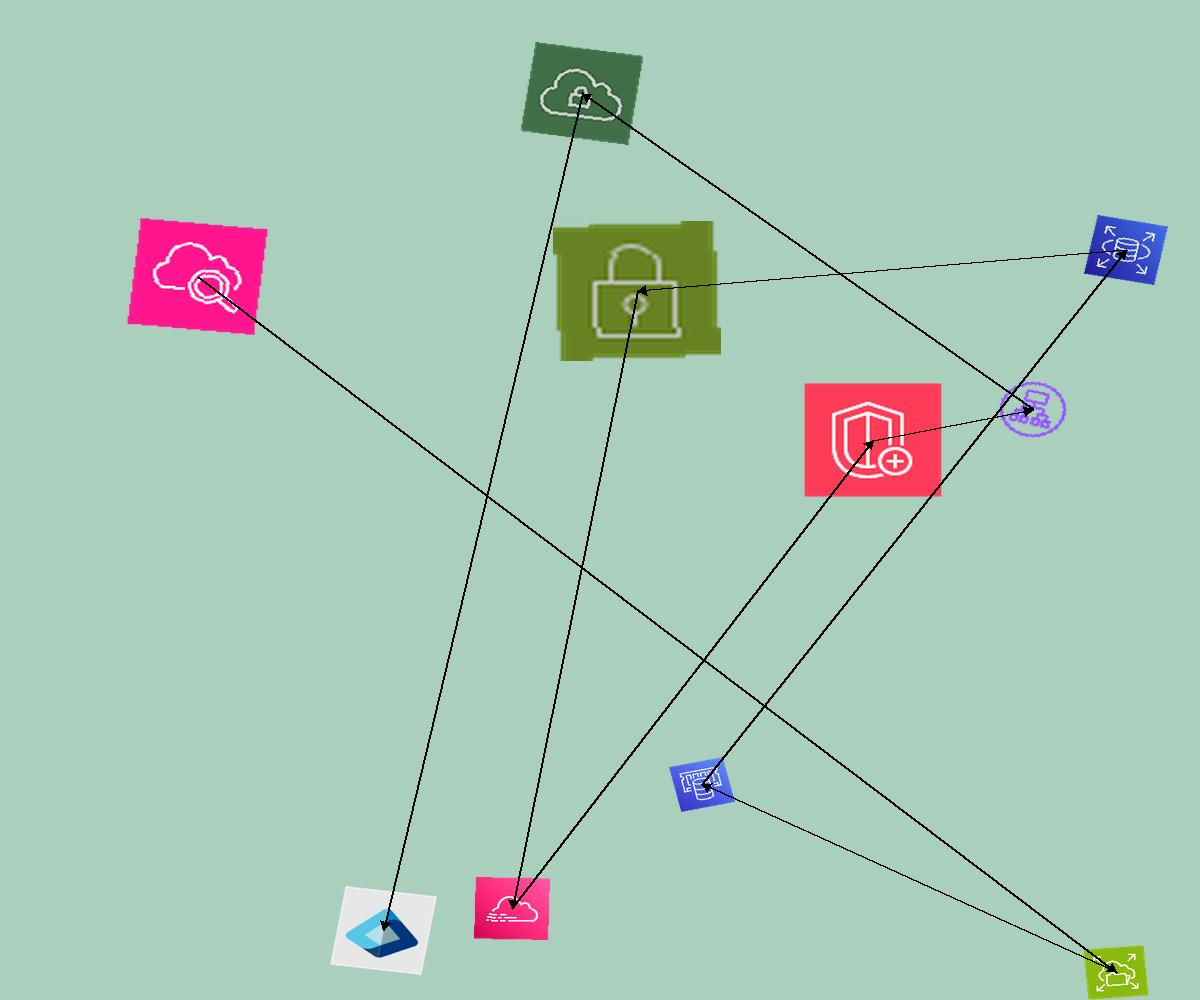AWS-CloudTrail: (474, 877, 550, 940)
AWS-CloudWatch: (126, 217, 269, 336)
AWS-EFS: (1083, 945, 1149, 1000)
AWS-ElastiCache: (669, 757, 735, 812)
AWS-Private_vpc: (520, 42, 644, 145)
AWS-Public-subnet: (553, 221, 721, 361)
AWS-RDS: (1084, 215, 1168, 285)
AWS-Res_Elastic-Load-Balancing_Application-Load-Balancer: (988, 372, 1078, 447)
AWS-Shield: (803, 382, 943, 498)
Azure_microsoft_entra: (330, 886, 437, 975)
